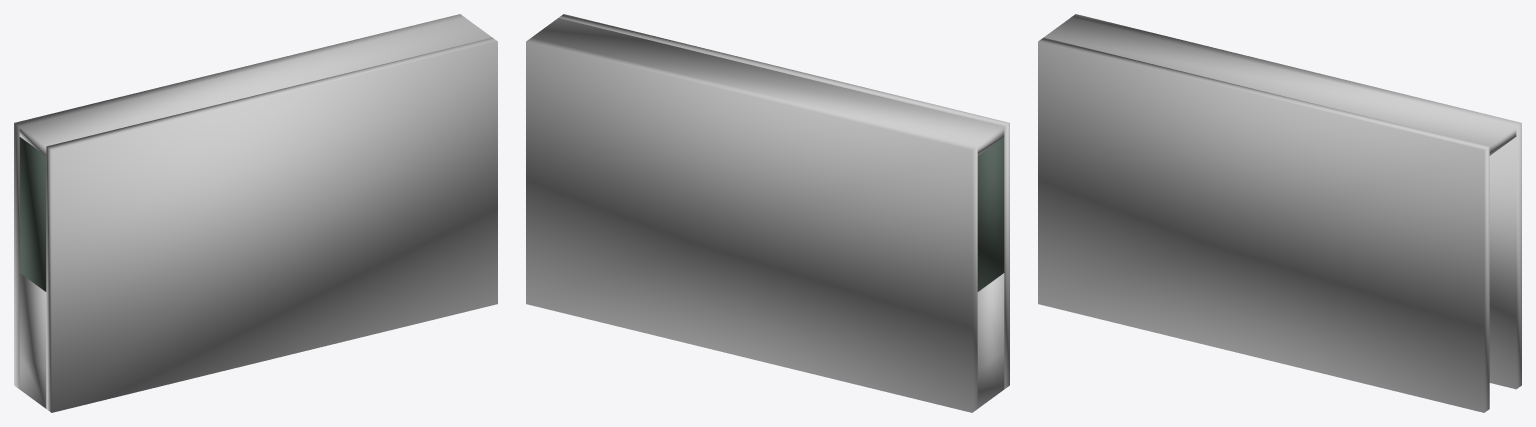
Rendered from homeout.dae.
3 views of the same model, side by side, from view 1: azimuth 30°, elevation 25°; view 2: azimuth 150°, elevation 25°; view 3: azimuth 330°, elevation 25° (orthographic).
Visible parts, largest first — view 1: mesh2, mesh0, mesh3; view 2: mesh0, mesh2, mesh3; view 3: mesh2, mesh0.
Part boxes in pixels (<box>): mesh2: <box>46,37,497,412</box>; mesh0: <box>14,14,491,408</box>; mesh3: <box>19,137,46,291</box>; mesh0: <box>526,18,1004,412</box>; mesh2: <box>558,14,1009,389</box>; mesh3: <box>977,137,1004,291</box>; mesh2: <box>1038,37,1489,412</box>; mesh0: <box>1044,14,1521,389</box>.
Size of the model in its own units: 1536 by 864 by 224.
